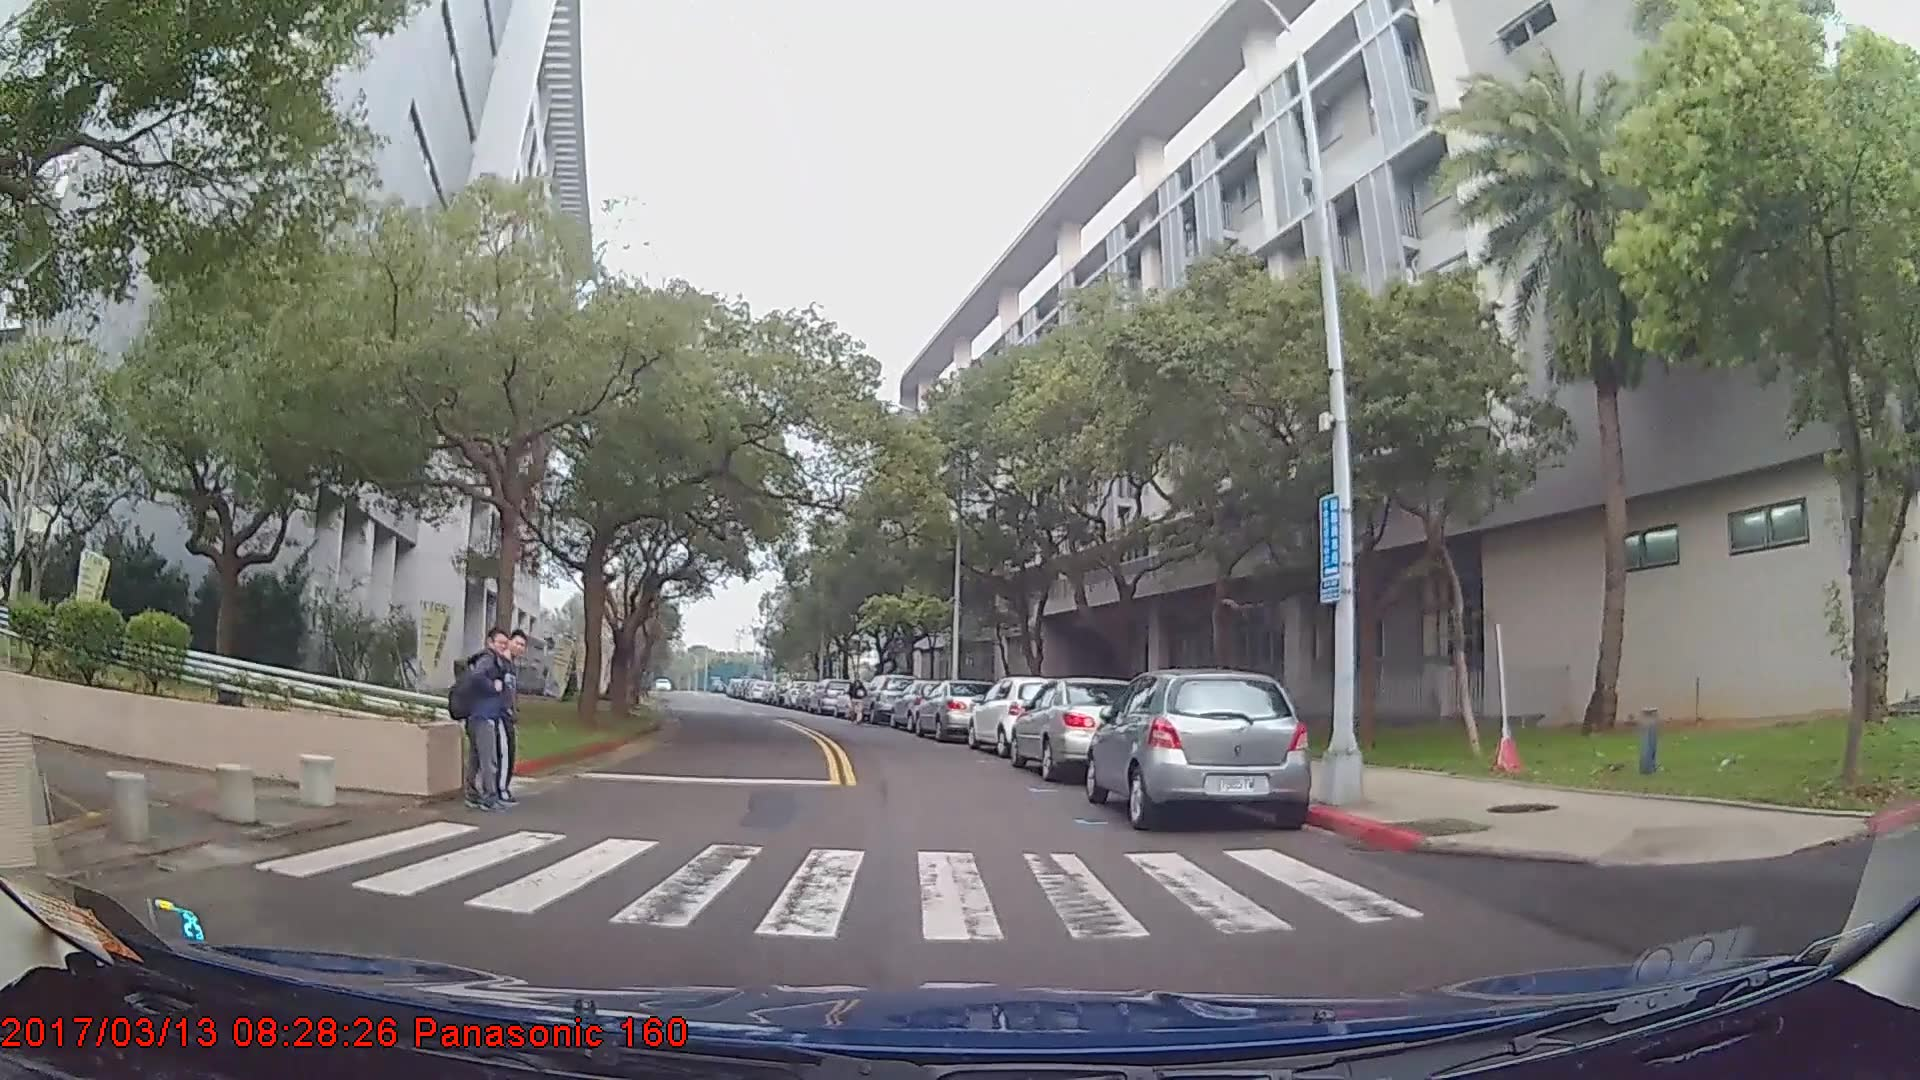pedestrian: (445, 628, 521, 822), (851, 675, 872, 727)
vehicle: (1085, 669, 1312, 833), (1008, 676, 1149, 781), (965, 675, 1067, 758), (914, 678, 1001, 743), (858, 672, 920, 724), (806, 678, 853, 716)
